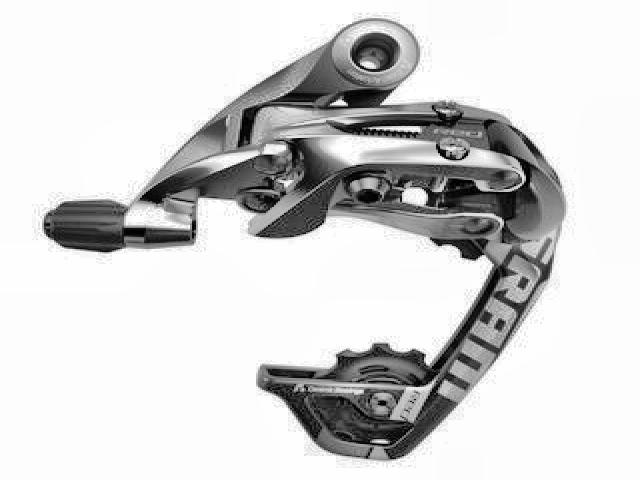rear_derailleur: (41, 19, 567, 462)
